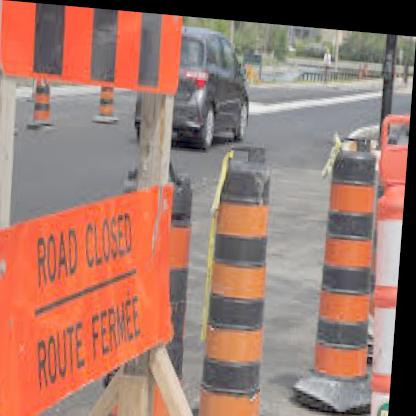obstacle: (200, 140, 285, 416), (315, 127, 387, 387)
